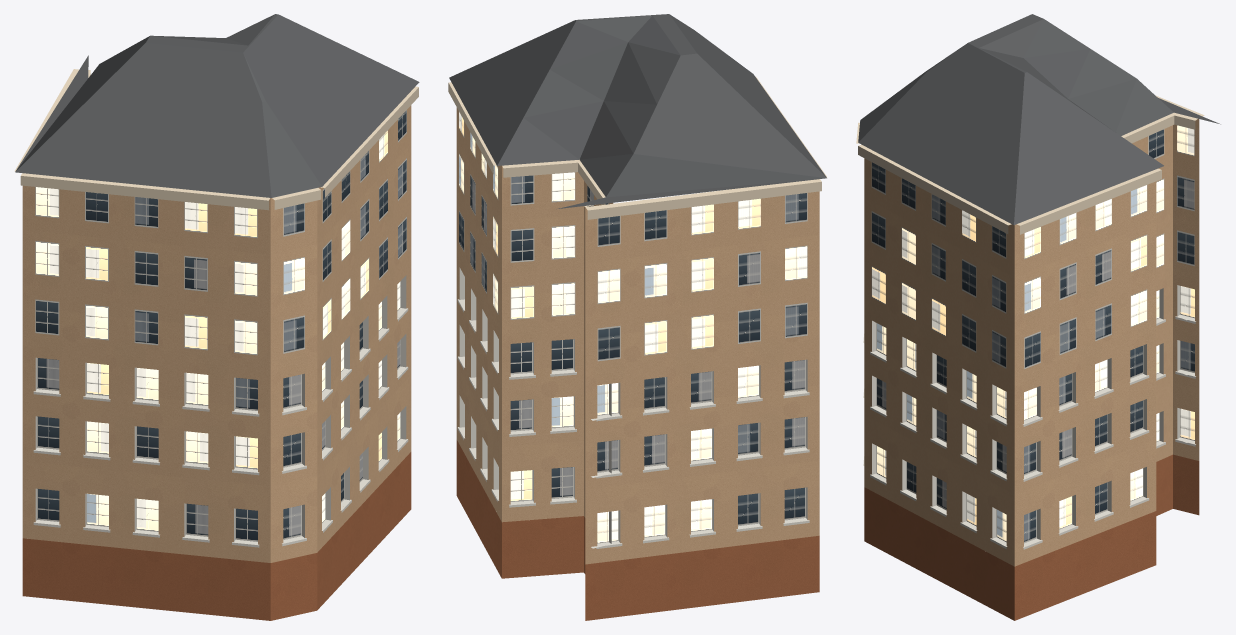
The model's file is z4L_berta_corner.glb.
3 views of the same model, side by side, from view 1: azimuth 30°, elevation 25°; view 2: azimuth 150°, elevation 25°; view 3: azimuth 270°, elevation 25° (orthographic). The views are drawn at different scales.
Visible parts, largest first — view 1: z4L_berta_corner; view 2: z4L_berta_corner; view 3: z4L_berta_corner.
Boxes of the visible parts, x1,y1,x2,y2 form: z4L_berta_corner: (14,14,419,620); z4L_berta_corner: (448,14,826,620); z4L_berta_corner: (856,14,1220,620).
Bounding box in the file's own units: 21.5 × 27.09 × 18.31.
3 materials, 3 textured.
